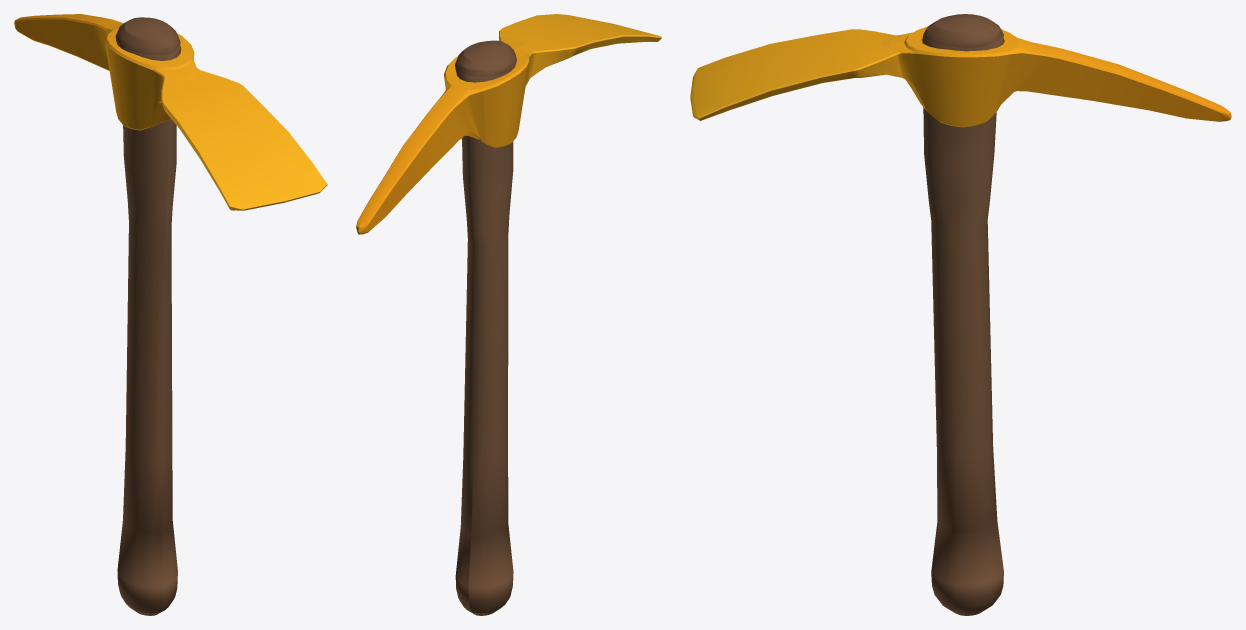
Rendered from pickaxe5.fbx.
3 views of the same model, side by side, from view 1: azimuth 30°, elevation 25°; view 2: azimuth 150°, elevation 25°; view 3: azimuth 270°, elevation 25° (orthographic). The views are drawn at different scales.
Parts seen in each view (by area): view 1: pickaxe4; view 2: pickaxe4; view 3: pickaxe4.
Boxes of the visible parts, x1,y1,x2,y2 form: pickaxe4: (14,14,327,615); pickaxe4: (356,14,661,615); pickaxe4: (690,14,1231,615).
Bounding box in the file's own units: 0.2531 × 1.44 × 1.19.
